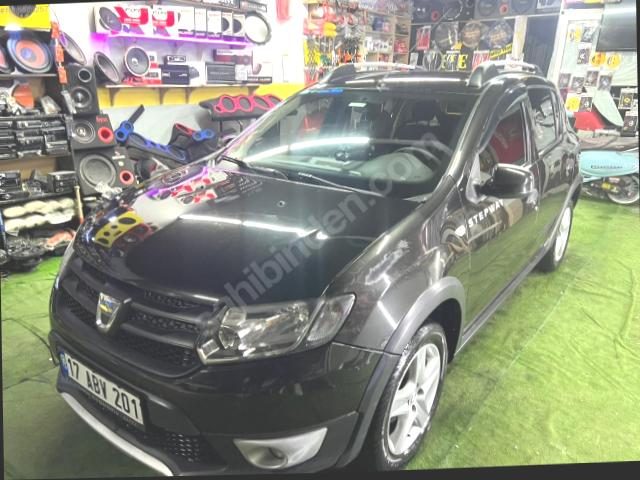plaka: (61, 351, 144, 426)
